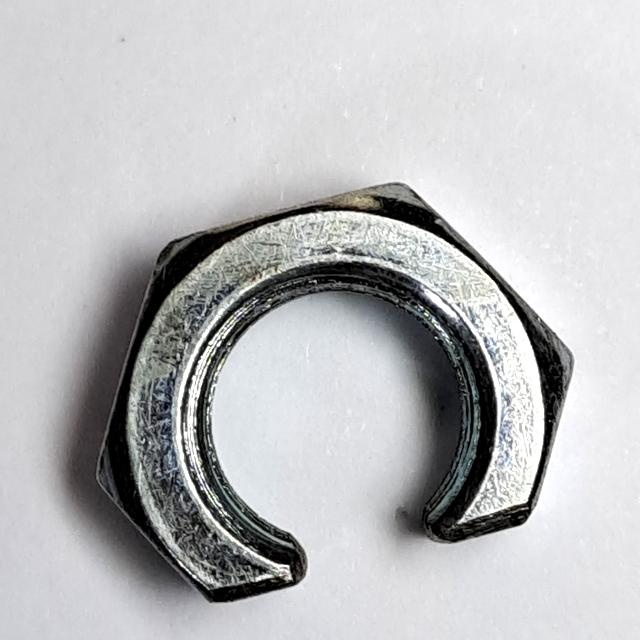Fracture: (83, 168, 587, 623)
